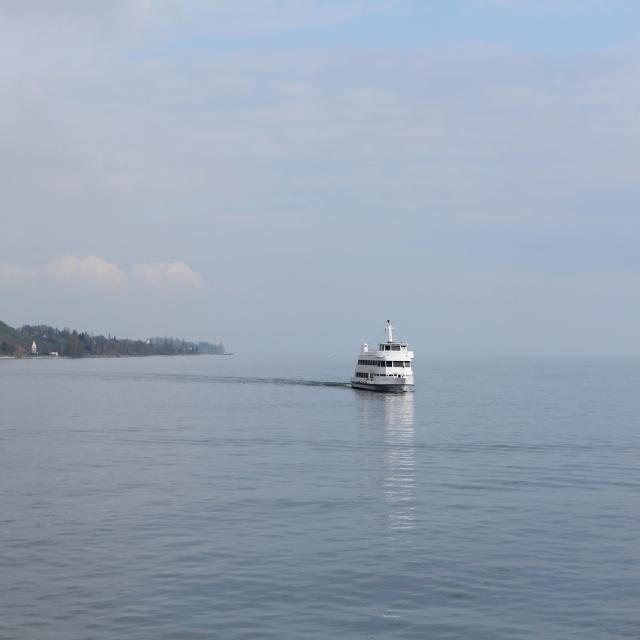passenger ship: (346, 319, 417, 396)
